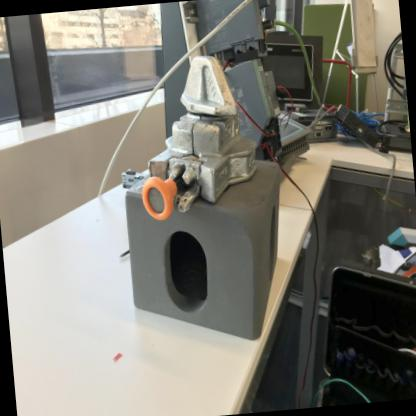CornerCasting: (118, 156, 301, 354)
Twistlock: (129, 47, 263, 222)
